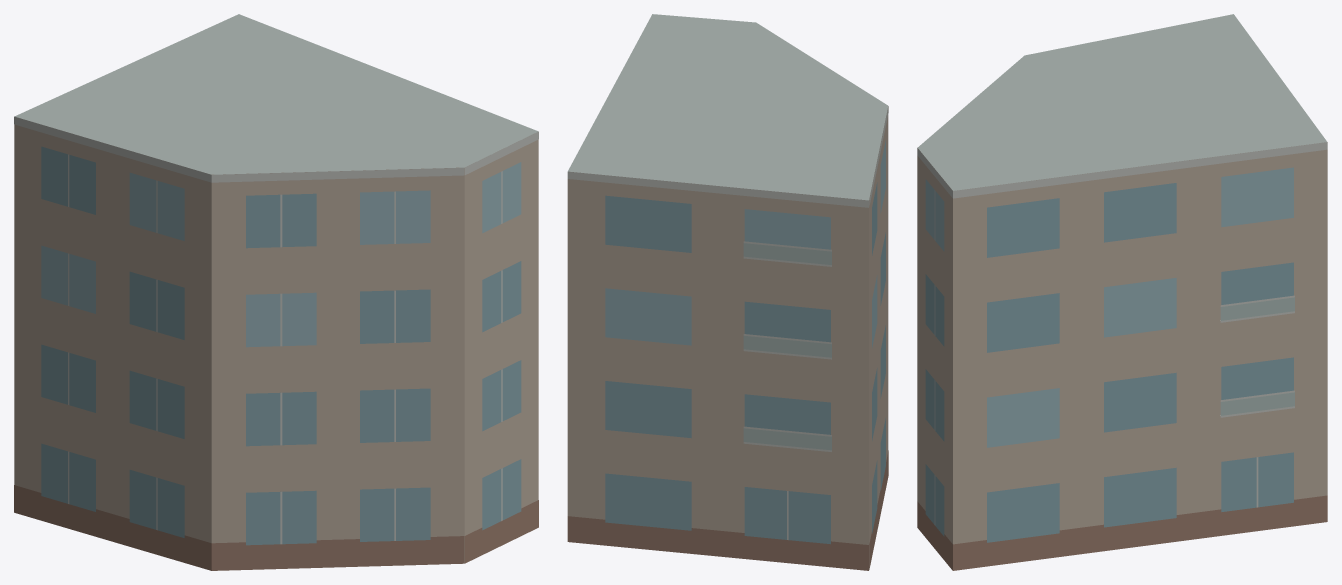
The model's file is residential-17057c3b-2bfa-4ddd-8f81-4613e3a646bd.glb.
The picture shows the model from 3 angles, left to right: view 1: azimuth 30°, elevation 25°; view 2: azimuth 150°, elevation 25°; view 3: azimuth 270°, elevation 25°; orthographic projection. The views are drawn at different scales.
Parts seen in each view (by area): view 1: residential-17057c3b-2bfa-4ddd-8f81-4613e3a646bd.tmp; view 2: residential-17057c3b-2bfa-4ddd-8f81-4613e3a646bd.tmp; view 3: residential-17057c3b-2bfa-4ddd-8f81-4613e3a646bd.tmp.
Boxes of the visible parts, bbox=[...] form: residential-17057c3b-2bfa-4ddd-8f81-4613e3a646bd.tmp: bbox=[14, 14, 538, 570]; residential-17057c3b-2bfa-4ddd-8f81-4613e3a646bd.tmp: bbox=[567, 14, 888, 570]; residential-17057c3b-2bfa-4ddd-8f81-4613e3a646bd.tmp: bbox=[917, 14, 1327, 570].
Bounding box in the file's own units: 12.2 × 12.2 × 11.94.
